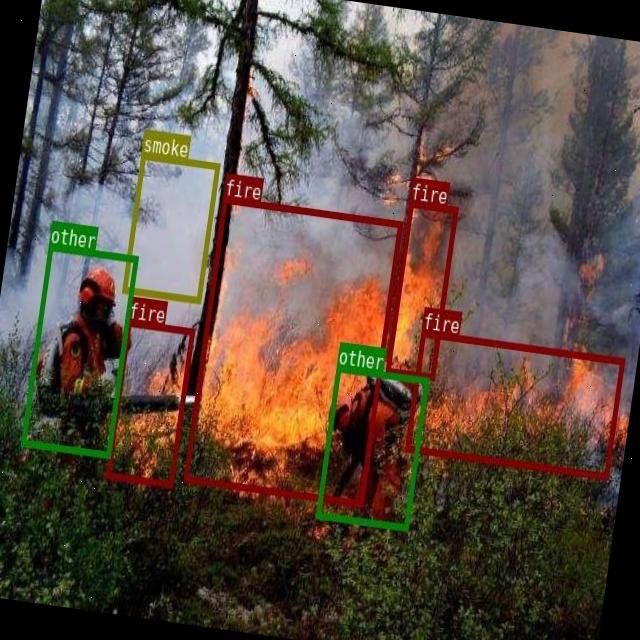fire: (184, 195, 402, 506), (404, 330, 624, 480), (105, 318, 195, 486), (384, 200, 458, 378)
smoke: (121, 152, 220, 304)
